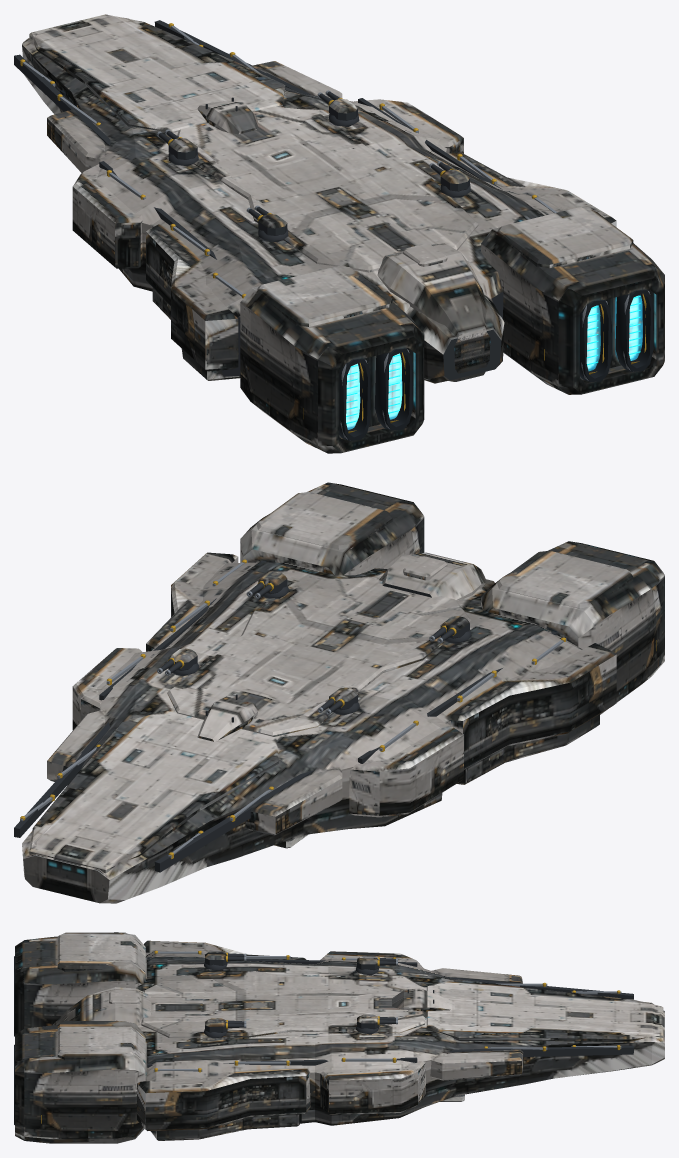
File: titan-lod2.glb
3 views of the same model, one above another, from view 1: azimuth 30°, elevation 25°; view 2: azimuth 150°, elevation 25°; view 3: azimuth 270°, elevation 25° (orthographic). The views are drawn at different scales.
Visible parts, largest first — view 1: Static / Reference artwork | titanium, brass, panels and can, Static / Structural rails | dark alloy, Static / Structural frames | gunmetal, Static / Machined titanium edges, Static / Ventral armor | dedicated bottom-view reference, Static / Warm brass collars, Static / Cyan luminous apertures; view 2: Static / Reference artwork | titanium, brass, panels and can, Static / Structural frames | gunmetal, Static / Machined titanium edges, Static / Ventral armor | dedicated bottom-view reference; view 3: Static / Reference artwork | titanium, brass, panels and can, Static / Structural frames | gunmetal, Static / Ventral armor | dedicated bottom-view reference, Static / Machined titanium edges, turret.starboard.2 / Structural frames | gunmetal, turret.port.1 / Structural frames | gunmetal, turret.starboard.1 / Structural frames | gunmetal, turret.port.2 / Structural frames | gunmetal.
Part boxes in pixels (left/top/right/bottom): Static / Reference artwork | titanium, brass, panels and can: left=22, top=14, right=664, bottom=452; Static / Structural rails | dark alloy: left=60, top=90, right=653, bottom=440; Static / Structural frames | gunmetal: left=14, top=20, right=503, bottom=380; Static / Machined titanium edges: left=20, top=24, right=650, bottom=439; Static / Ventral armor | dedicated bottom-view reference: left=115, top=266, right=653, bottom=453; Static / Warm brass collars: left=20, top=23, right=646, bottom=433; Static / Cyan luminous apertures: left=346, top=296, right=640, bottom=423; Static / Reference artwork | titanium, brass, panels and can: left=22, top=482, right=664, bottom=903; Static / Structural frames | gunmetal: left=14, top=560, right=557, bottom=872; Static / Machined titanium edges: left=20, top=560, right=566, bottom=858; Static / Ventral armor | dedicated bottom-view reference: left=48, top=678, right=649, bottom=903; Static / Reference artwork | titanium, brass, panels and can: left=15, top=932, right=664, bottom=1139; Static / Structural frames | gunmetal: left=147, top=957, right=633, bottom=1132; Static / Ventral armor | dedicated bottom-view reference: left=15, top=1039, right=664, bottom=1143; Static / Machined titanium edges: left=153, top=951, right=621, bottom=1071; turret.starboard.2 / Structural frames | gunmetal: left=204, top=1020, right=244, bottom=1038; turret.port.1 / Structural frames | gunmetal: left=355, top=958, right=395, bottom=975; turret.starboard.1 / Structural frames | gunmetal: left=355, top=1017, right=395, bottom=1034; turret.port.2 / Structural frames | gunmetal: left=204, top=953, right=244, bottom=970.
Size of the model in its own units: 10.25 by 3.17 by 18.65.
7 materials, 2 textured.
